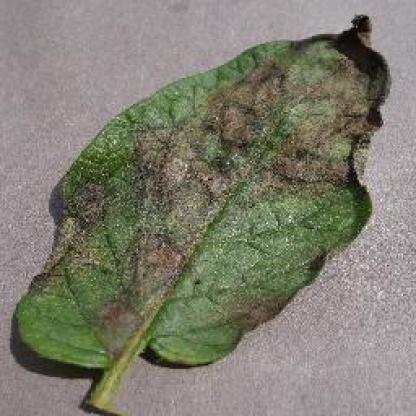bad leaf: (23, 15, 395, 416)
